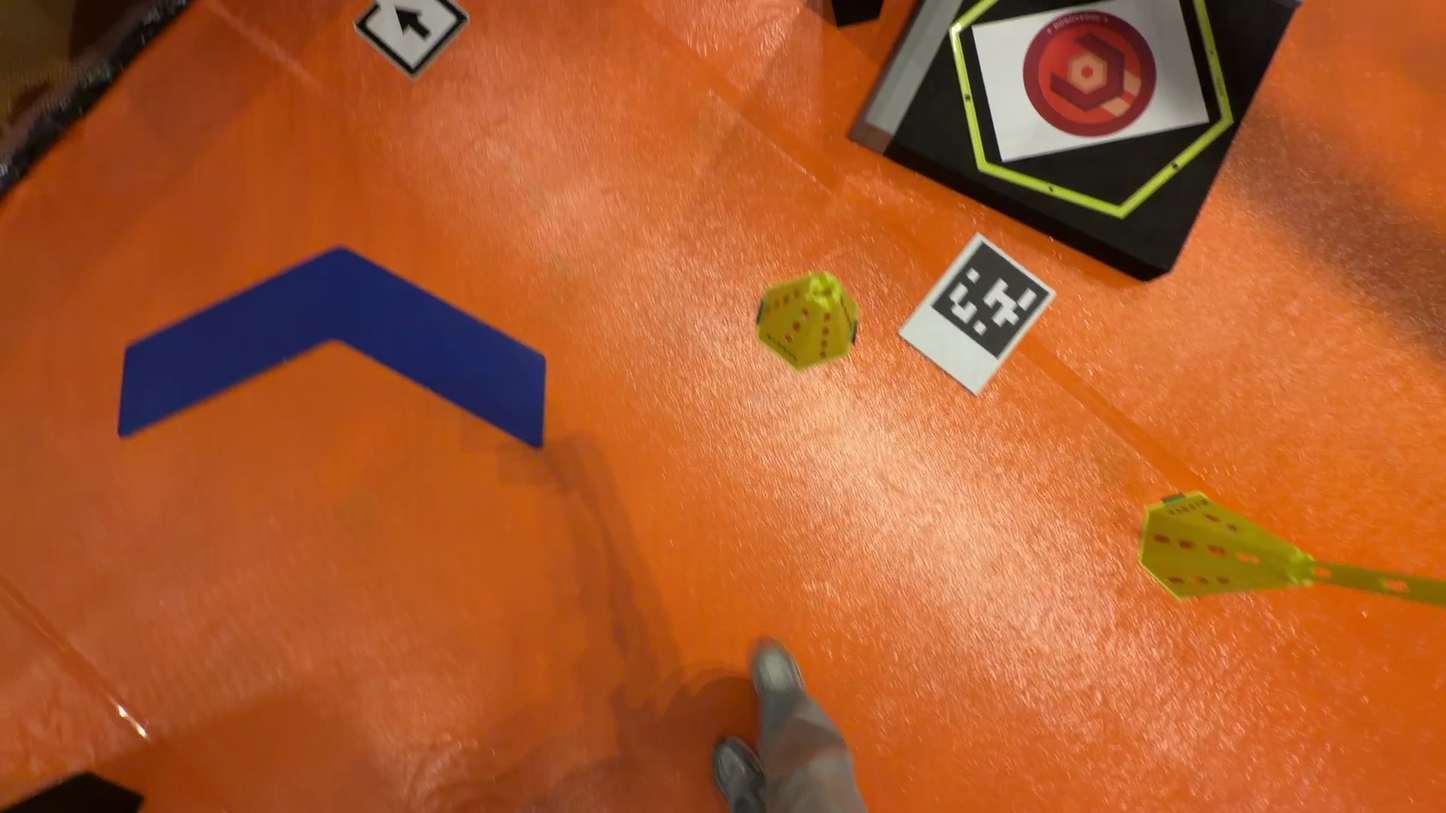landing_pad: (1021, 13, 1165, 136)
